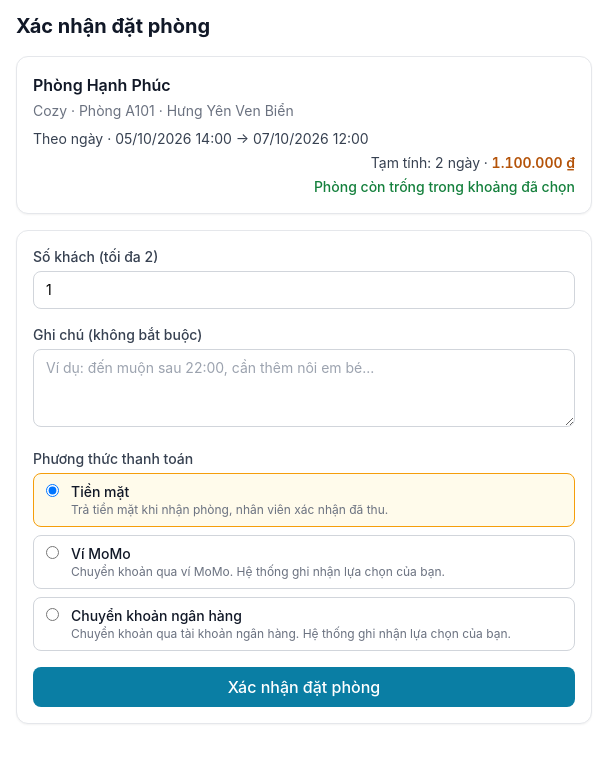
Booking - tao don › VuotSucChua_BaoLoiTaiForm_KhongGoiApi
Expected: the heading "Xác nhận đặt phòng" is shown, [16,14,210,38]
Expected: the text "Phòng còn trống trong khoảng đã chọn" is shown, [314,178,575,195]
Replace the text in the number field labelled "Số khách (tối đa 2)" with "5" at (304, 290), box [33,271,575,309]
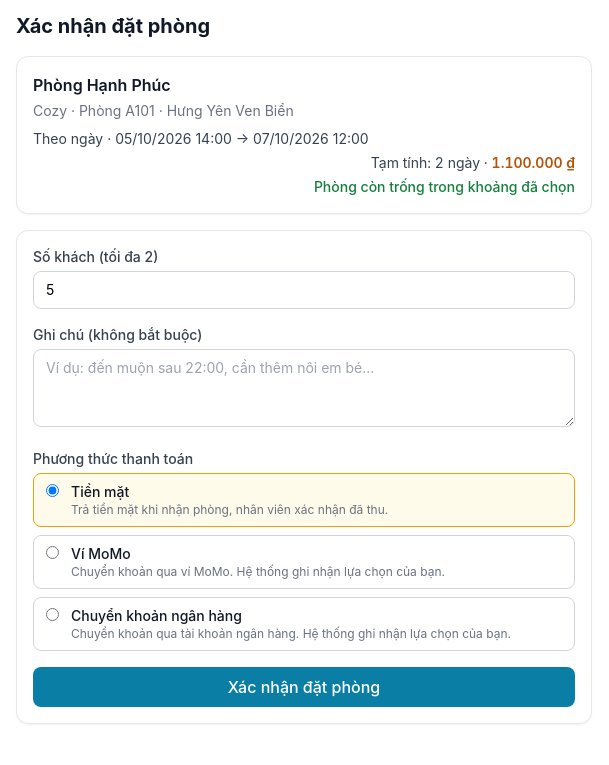
Click the button "Xác nhận đặt phòng" at (304, 687), box [33,667,575,707]
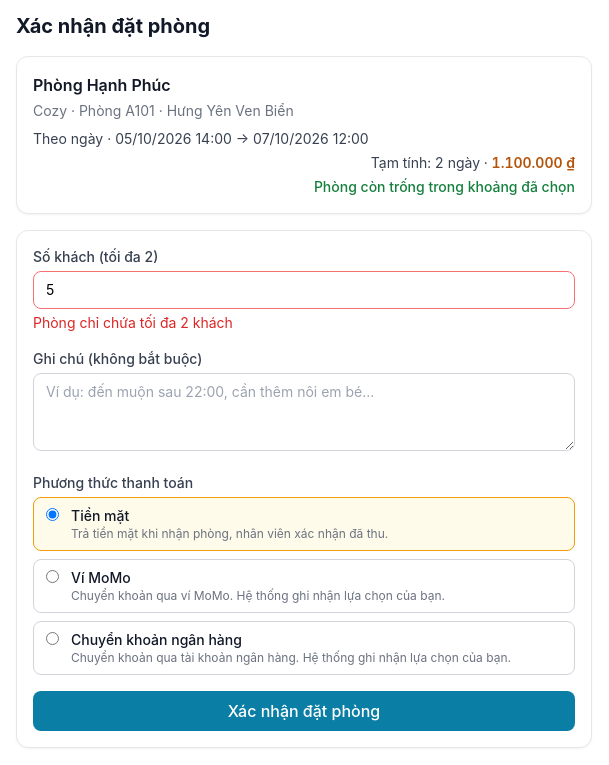
Now the text "Phòng chỉ chứa tối đa 2 khách" is shown, box [33,314,233,331]
